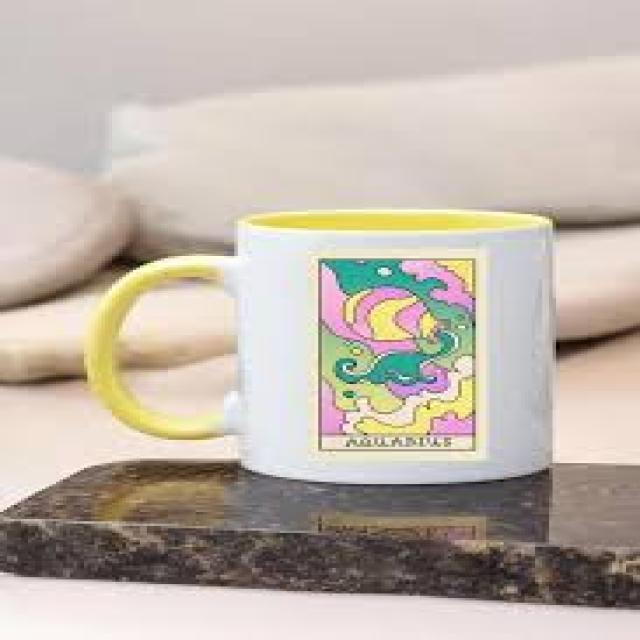taza: (83, 208, 554, 486)
